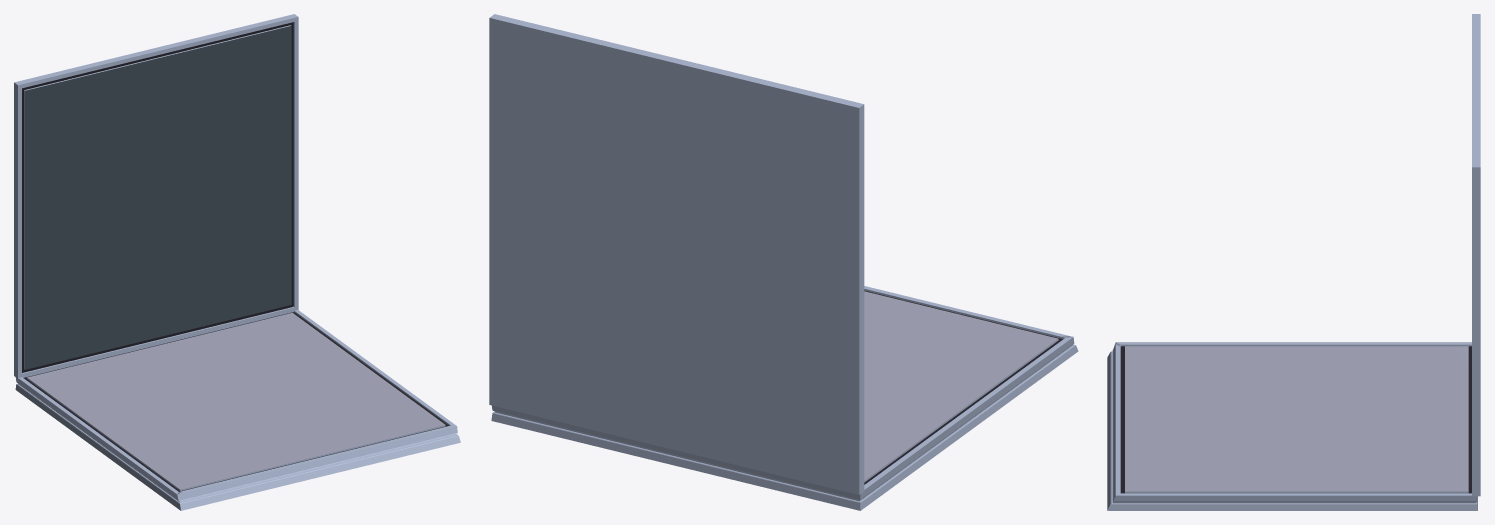
Rendered from BoardModel.fbx.
3 renders of one model, left to right at view 1: azimuth 30°, elevation 25°; view 2: azimuth 150°, elevation 25°; view 3: azimuth 270°, elevation 25°, orthographic. The views are drawn at different scales.
Parts seen in each view (by area): view 1: Cube.002, Cube.001; view 2: Cube.002, Cube.001; view 3: Cube.001, Cube.002.
Boxes of the visible parts, x1=… form: Cube.002: x1=14, y1=14, x2=298, y2=378; Cube.001: x1=15, y1=310, x2=460, y2=510; Cube.002: x1=489, y1=14, x2=864, y2=494; Cube.001: x1=491, y1=286, x2=1078, y2=510; Cube.001: x1=1107, y1=342, x2=1477, y2=510; Cube.002: x1=1472, y1=14, x2=1480, y2=496.
Size of the model in its own units: 850 by 888 by 875.
Materials: 1 (1 with a texture image).
